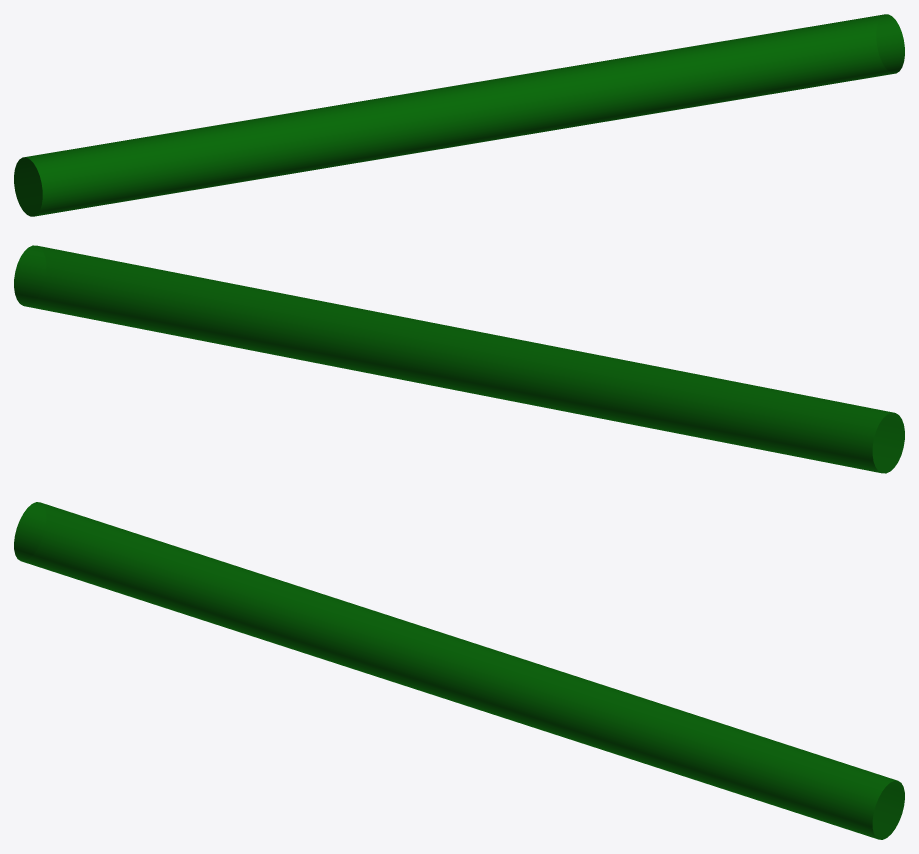
The model's file is Event_194851961_jet_8.fbx.
3 views of the same model, one above another, from view 1: azimuth 30°, elevation 25°; view 2: azimuth 150°, elevation 25°; view 3: azimuth 330°, elevation 25° (orthographic). The views are drawn at different scales.
Parts seen in each view (by area): view 1: Model; view 2: Model; view 3: Model.
Part boxes in pixels (x1,y1,x2,y2): Model: [14, 14, 904, 216]; Model: [14, 245, 904, 473]; Model: [14, 502, 904, 839].
Bounding box in the file's own units: 0.6526 × 0.0795 × 0.0578.
